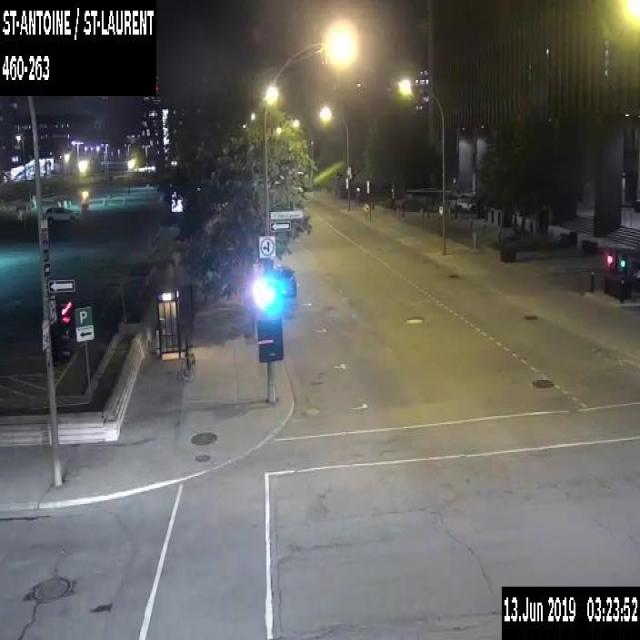vehicle: (274, 264, 296, 296), (44, 205, 79, 224)
